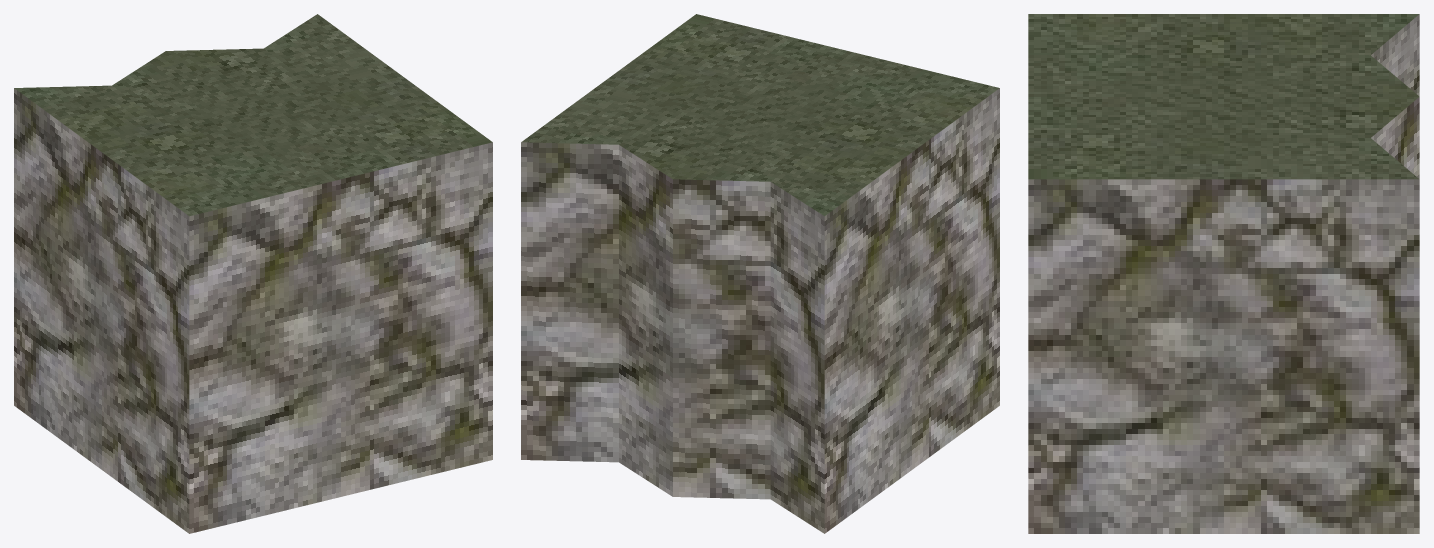
The model's file is cliff-side.glb.
The picture shows the model from 3 angles, left to right: view 1: azimuth 30°, elevation 25°; view 2: azimuth 150°, elevation 25°; view 3: azimuth 270°, elevation 25°; orthographic projection. The views are drawn at different scales.
Parts seen in each view (by area): view 1: cliff-side; view 2: cliff-side; view 3: cliff-side.
Part boxes in pixels (<box>): cliff-side: <box>14,14,492,533</box>; cliff-side: <box>521,14,999,533</box>; cliff-side: <box>1028,14,1419,533</box>.
Bounding box in the file's own units: 1 × 1 × 1.
Materials: 2 (2 with a texture image).
